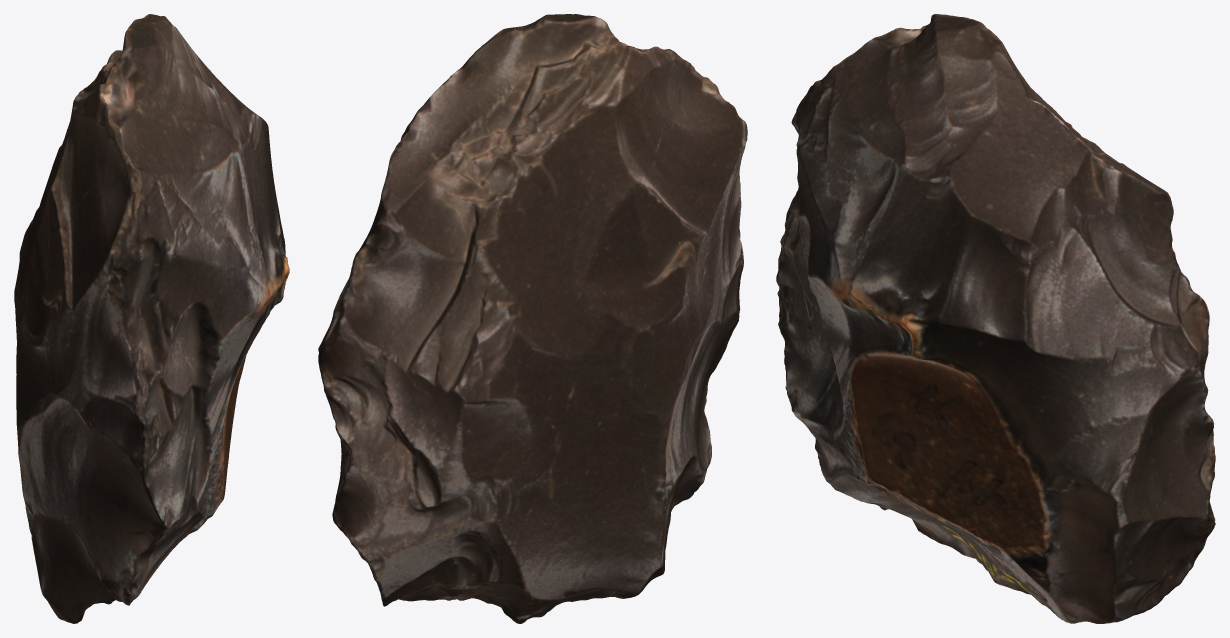
3 renders of one model, left to right at view 1: azimuth 30°, elevation 25°; view 2: azimuth 150°, elevation 25°; view 3: azimuth 270°, elevation 25°, orthographic. The views are drawn at different scales.
Visible parts, largest first — view 1: Node; view 2: Node; view 3: Node.
Part boxes in pixels (x1=…): Node: x1=14, y1=14, x2=289, y2=623; Node: x1=318, y1=14, x2=747, y2=623; Node: x1=776, y1=14, x2=1215, y2=623.
Size of the model in its own units: 28.4 by 60.64 by 41.44.
1 material, 1 textured.
